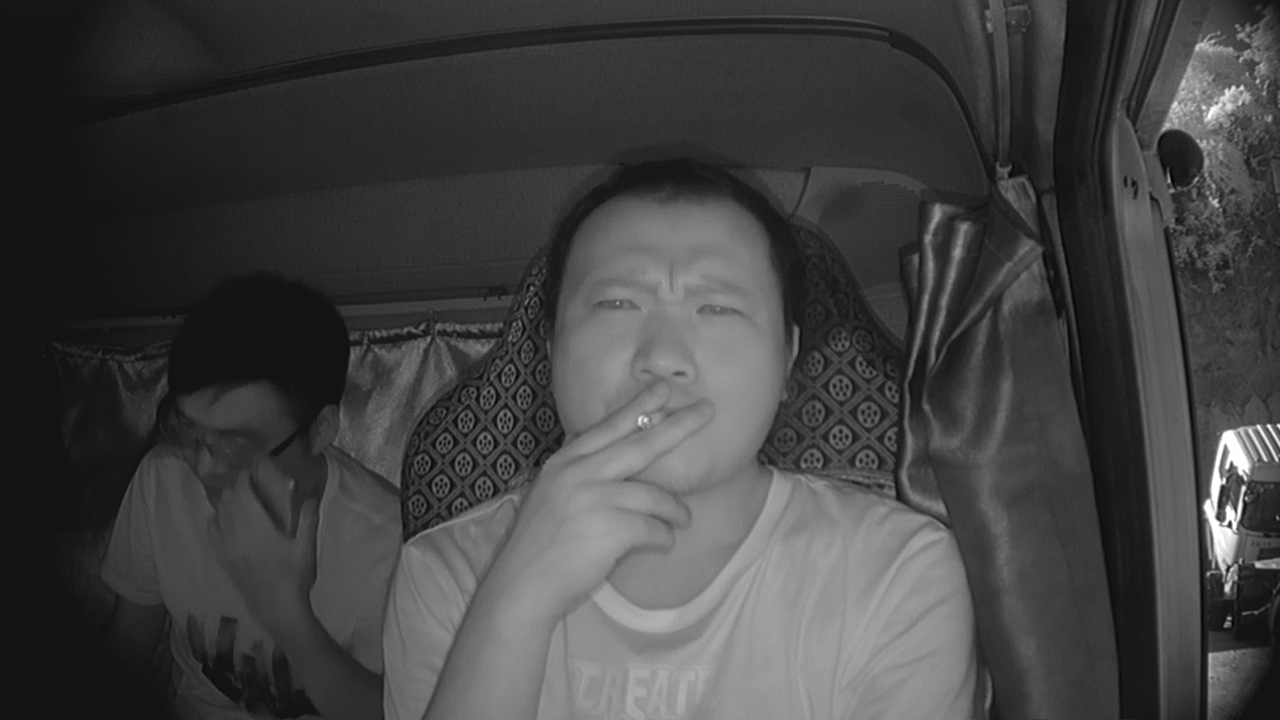hand: (570, 380, 718, 555)
